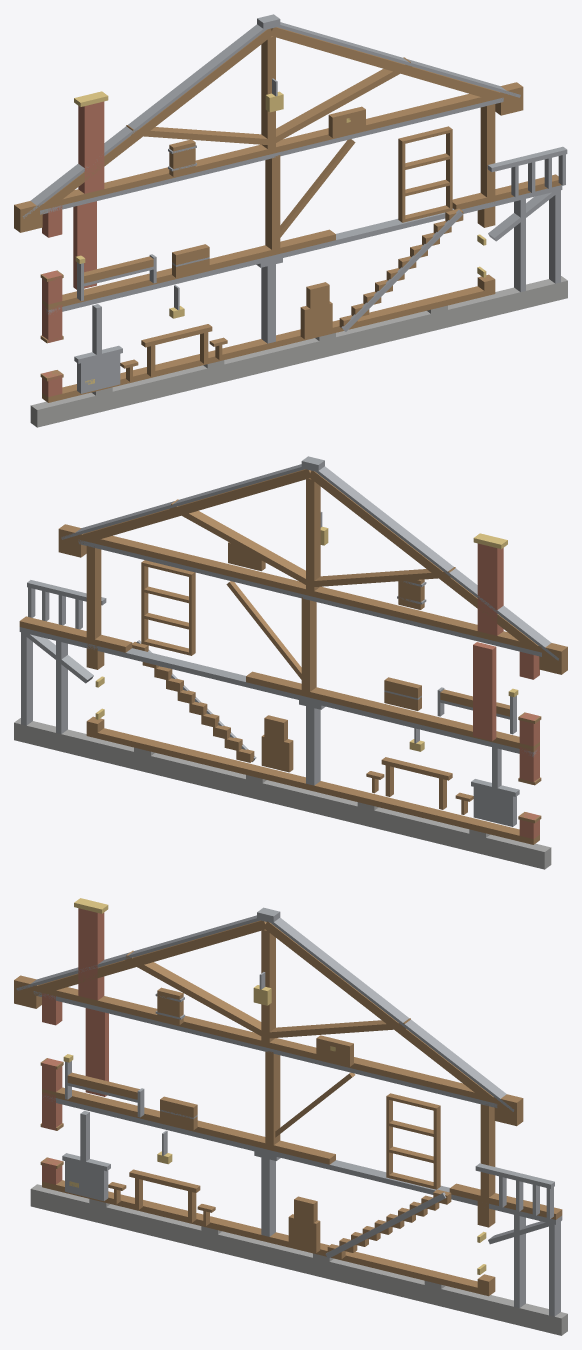
The model's file is timber-house.glb.
3 renders of one model, top to bottom at view 1: azimuth 30°, elevation 25°; view 2: azimuth 150°, elevation 25°; view 3: azimuth 330°, elevation 25°, orthographic.
Parts seen in each view (by area): view 1: stone_1, wood_78, wood_6, wood_45, iron_83, wood_80, wood_79, iron_77, brick_97, wood_88, iron_44, brick_96 (+30 smaller); view 2: stone_1, wood_6, wood_78, wood_45, iron_83, wood_80, wood_79, iron_77, brick_96, brick_97, iron_44, wood_88 (+27 smaller); view 3: stone_1, wood_78, wood_6, iron_84, wood_45, wood_80, wood_79, iron_77, brick_97, wood_87, brick_96, iron_44 (+28 smaller).
Boxes of the visible parts, <box> form: stone_1: <box>30,291,506,427</box>; wood_78: <box>40,91,503,210</box>; wood_6: <box>42,286,495,402</box>; wood_45: <box>42,229,335,310</box>; iron_83: <box>22,24,269,218</box>; wood_80: <box>271,27,519,106</box>; wood_79: <box>24,28,273,225</box>; iron_77: <box>40,97,503,214</box>; brick_97: <box>78,101,104,193</box>; wood_88: <box>276,57,411,142</box>; iron_44: <box>45,201,495,311</box>; brick_96: <box>73,201,96,289</box>; stone_1: <box>75,733,551,869</box>; wood_6: <box>86,728,539,844</box>; wood_78: <box>78,533,541,652</box>; wood_45: <box>246,671,539,752</box>; iron_83: <box>312,466,558,660</box>; wood_80: <box>63,469,310,548</box>; wood_79: <box>308,470,557,667</box>; iron_77: <box>78,539,541,656</box>; brick_96: <box>473,642,496,740</box>; brick_97: <box>477,543,503,635</box>; iron_44: <box>86,643,536,754</box>; wood_88: <box>170,499,305,584</box>; stone_1: <box>30,1184,505,1320</box>; wood_78: <box>33,985,497,1103</box>; wood_6: <box>42,1180,495,1296</box>; iron_84: <box>267,917,514,1111</box>; wood_45: <box>42,1087,335,1164</box>; wood_80: <box>263,921,512,1118</box>; wood_79: <box>18,920,266,1000</box>; iron_77: <box>33,991,497,1107</box>; brick_97: <box>78,908,104,1000</box>; wood_87: <box>125,950,265,1035</box>; brick_96: <box>85,1008,108,1096</box>; iron_44: <box>42,1095,477,1202</box>.
Size of the model in its own units: 19.6 by 11.95 by 1.05.
